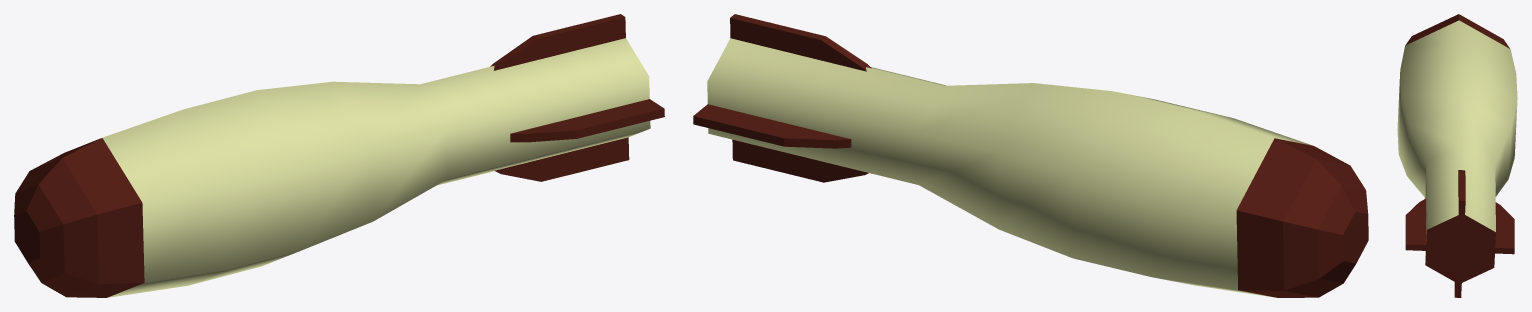
File: Bomb_4.FBX
3 renders of one model, left to right at view 1: azimuth 30°, elevation 25°; view 2: azimuth 150°, elevation 25°; view 3: azimuth 270°, elevation 25°, orthographic. The views are drawn at different scales.
Visible parts, largest first — view 1: Bomb_4, Cylinder150; view 2: Bomb_4, Cylinder150; view 3: Bomb_4, Cylinder150.
Part boxes in pixels (x1,y1,x2,y2): Bomb_4: (102,38,650,297); Cylinder150: (14,14,664,297); Bomb_4: (707,38,1312,297); Cylinder150: (693,14,1368,297); Bomb_4: (1397,20,1517,262); Cylinder150: (1405,14,1514,297).
Size of the model in its own units: 3.8 by 1.05 by 0.9569.
